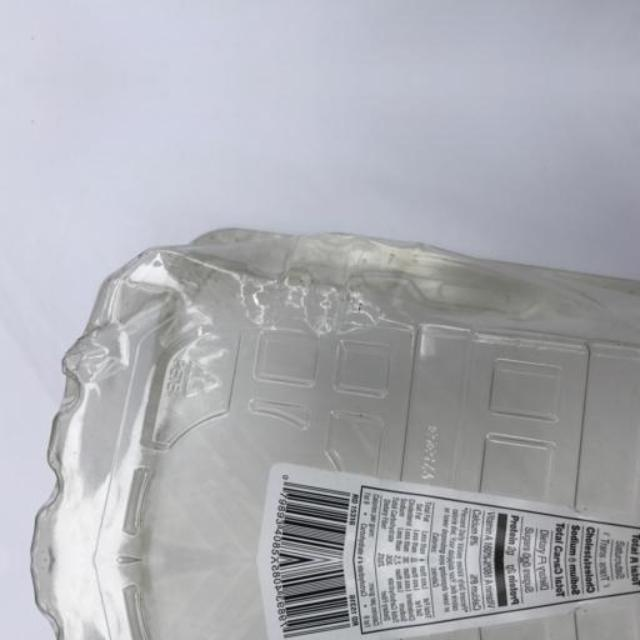Plastic: (25, 218, 640, 560), (24, 560, 639, 640)
